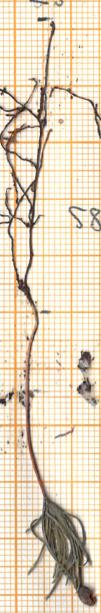flower: (18, 492, 101, 612)
root: (0, 17, 61, 308)
stem: (16, 312, 47, 492)
